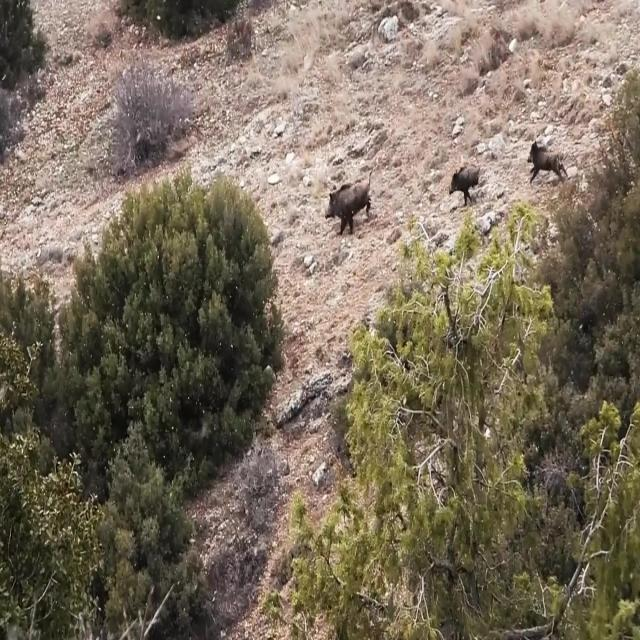pig: (306, 156, 382, 238), (512, 116, 553, 206), (447, 146, 479, 208)
